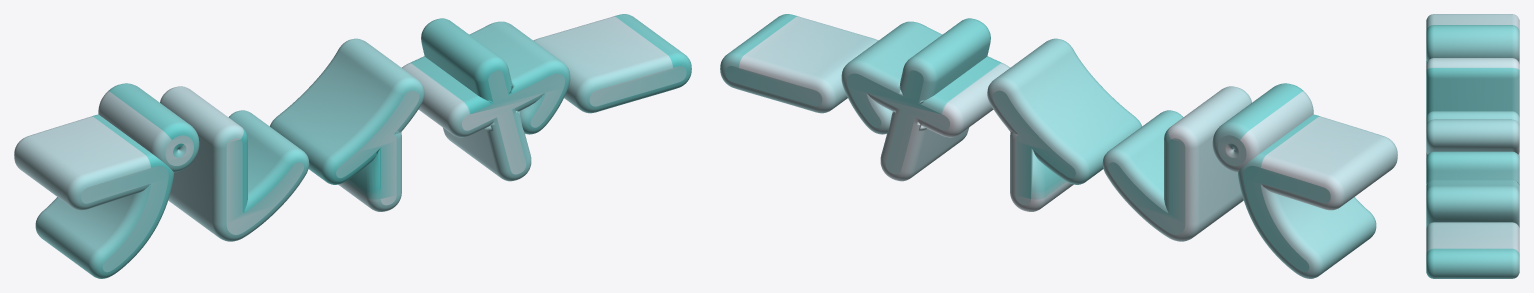
The model's file is player.obj.
3 views of the same model, side by side, from view 1: azimuth 30°, elevation 25°; view 2: azimuth 150°, elevation 25°; view 3: azimuth 270°, elevation 25° (orthographic). The views are drawn at different scales.
Visible parts, largest first — view 1: テキスト; view 2: テキスト; view 3: テキスト.
Part boxes in pixels (<box>): テキスト: <box>14,14,691,278</box>; テキスト: <box>720,14,1397,278</box>; テキスト: <box>1426,14,1519,278</box>.
Bounding box in the file's own units: 2.03 × 0.4365 × 0.3492.
Materials: 1 (1 with a texture image).
